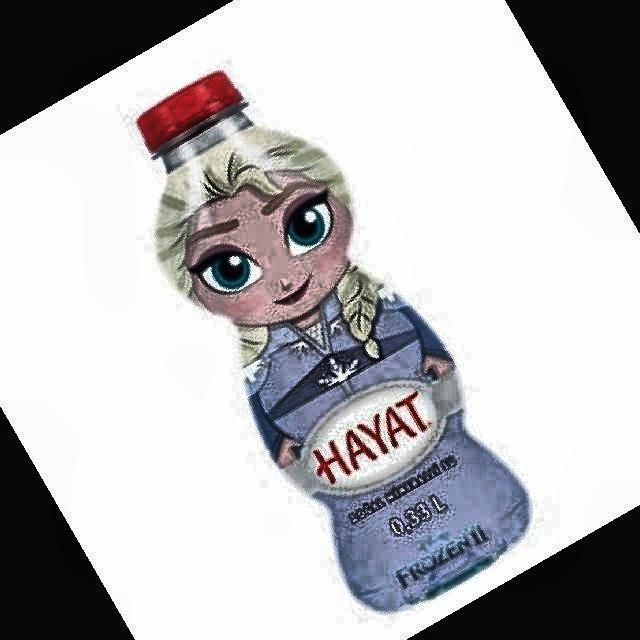plastic: (138, 71, 529, 609)
